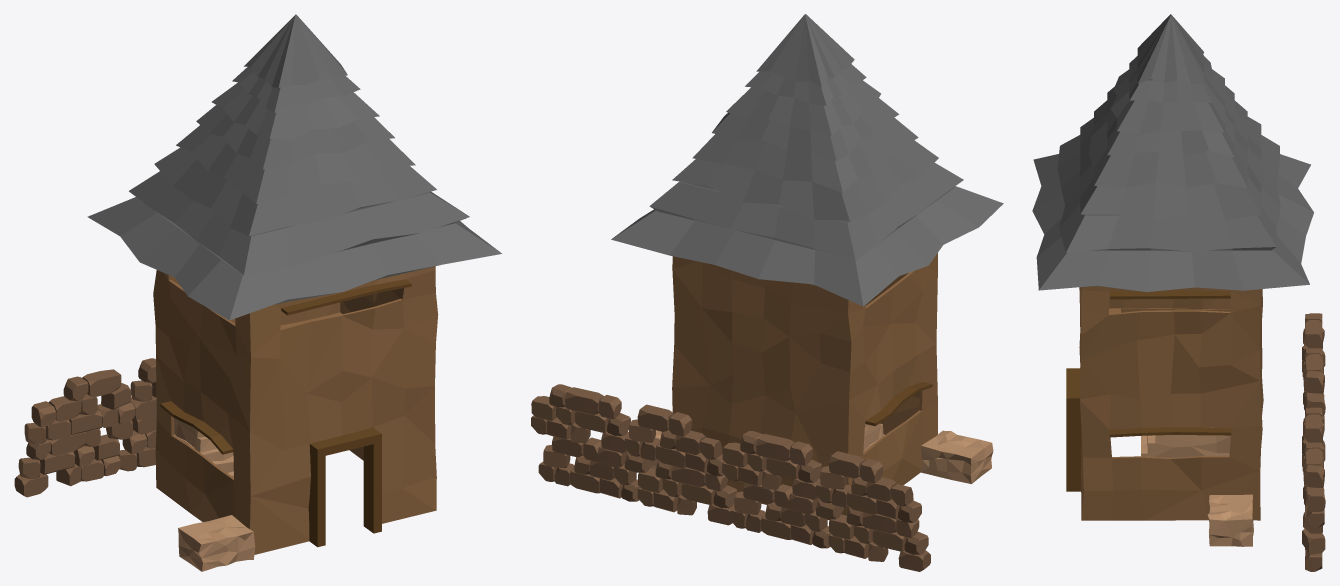
File: Mali_A.fbx
3 renders of one model, left to right at view 1: azimuth 30°, elevation 25°; view 2: azimuth 150°, elevation 25°; view 3: azimuth 270°, elevation 25°, orthographic. The views are drawn at different scales.
Visible parts, largest first — view 1: MaliA; view 2: MaliA; view 3: MaliA.
Boxes of the visible parts, bbox=[...] form: MaliA: bbox=[14, 14, 501, 571]; MaliA: bbox=[531, 14, 1003, 571]; MaliA: bbox=[1032, 14, 1325, 571].
Bounding box in the file's own units: 1167 × 1310 × 750.
Materials: 1 (1 with a texture image).
